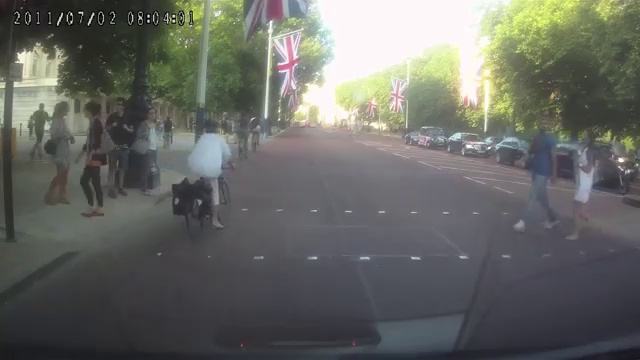cyclist_back: (175, 117, 234, 245), (232, 109, 252, 164), (248, 116, 261, 157)
